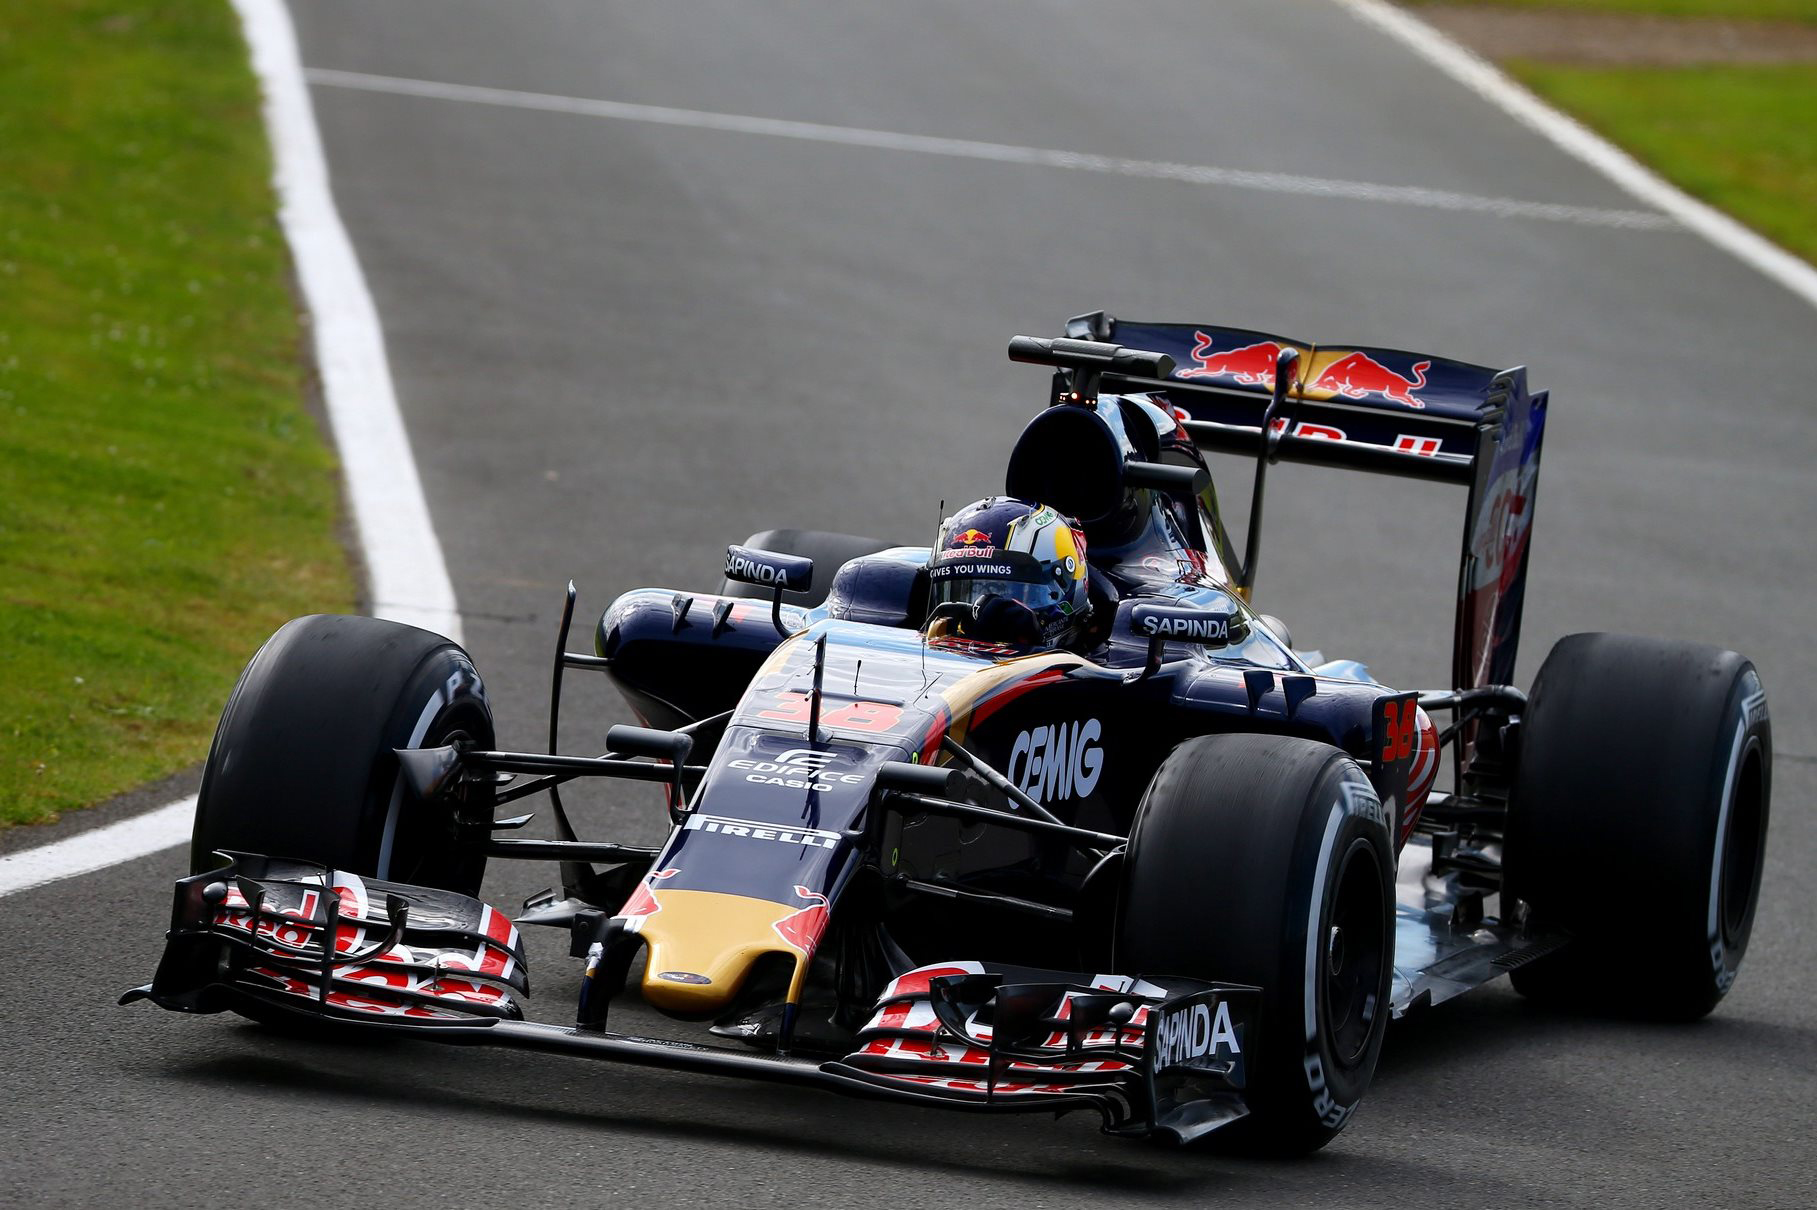F1 Car: (139, 280, 1791, 1175)
